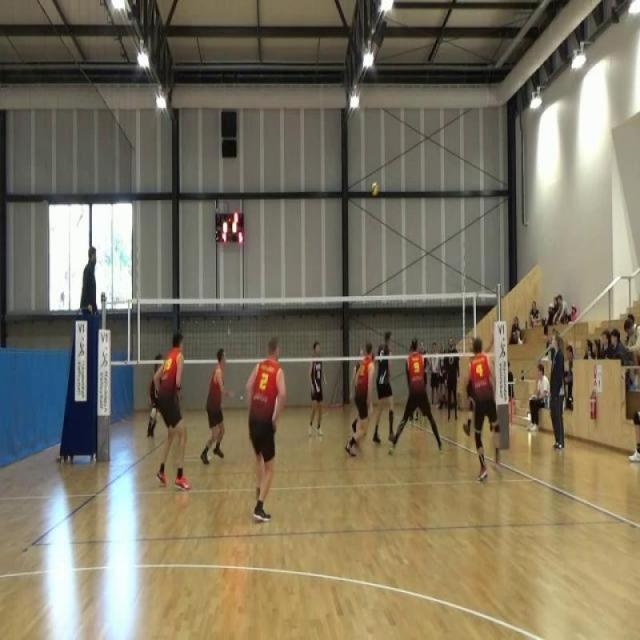volleyball: (370, 181, 380, 197)
